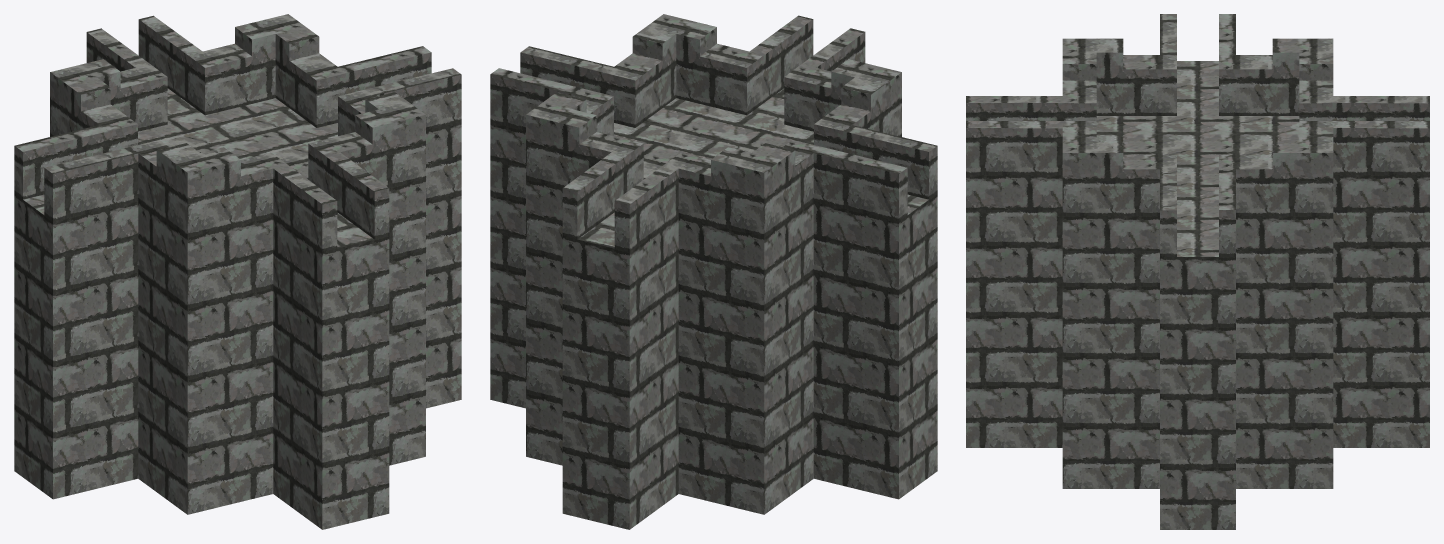
Rendered from MuroEdit.FBX.
The picture shows the model from 3 angles, left to right: view 1: azimuth 30°, elevation 25°; view 2: azimuth 150°, elevation 25°; view 3: azimuth 270°, elevation 25°; orthographic projection.
Parts seen in each view (by area): view 1: Muro; view 2: Muro; view 3: Muro.
Part boxes in pixels (x1,y1,x2,y2): Muro: (14,14,461,529); Muro: (490,14,937,529); Muro: (966,14,1429,529).
Bounding box in the file's own units: 1 × 0.8 × 1.
Materials: 1 (1 with a texture image).
